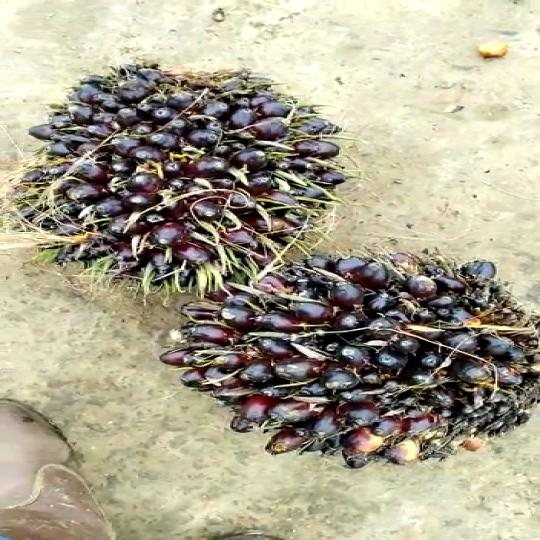mentah: (14, 59, 356, 300), (168, 257, 540, 466)
